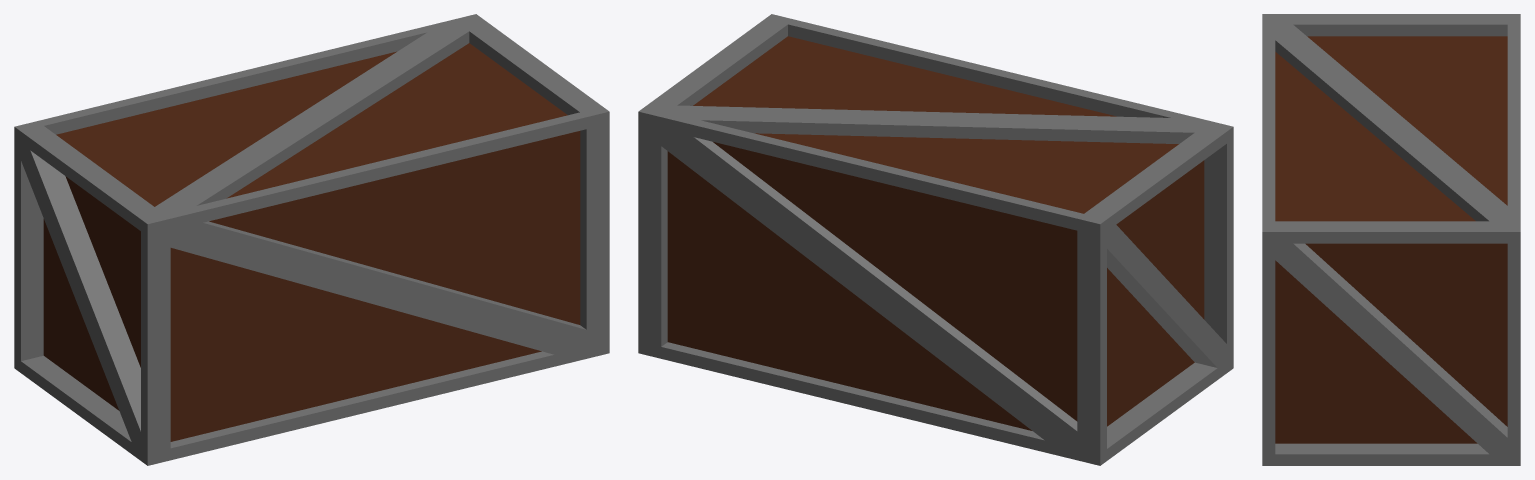
The picture shows the model from 3 angles, left to right: view 1: azimuth 30°, elevation 25°; view 2: azimuth 150°, elevation 25°; view 3: azimuth 270°, elevation 25°; orthographic projection. The views are drawn at different scales.
Visible parts, largest first — view 1: Box2; view 2: Box2; view 3: Box2.
Boxes of the visible parts, x1,y1,x2,y2 form: Box2: [14, 14, 609, 465]; Box2: [638, 14, 1233, 465]; Box2: [1262, 14, 1520, 465].
Size of the model in its own units: 150 by 75 by 75.
